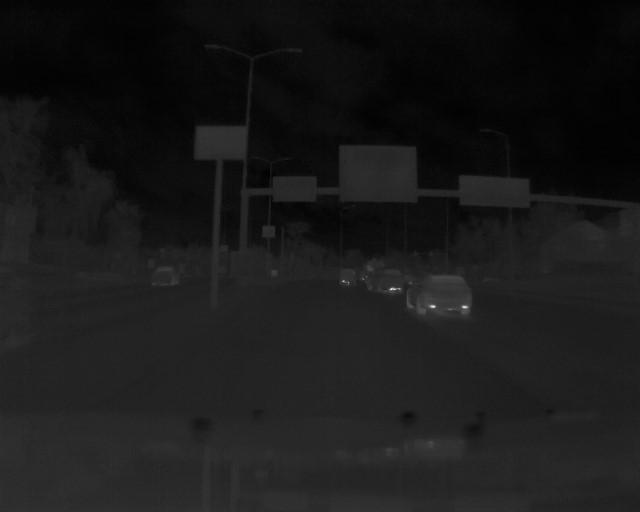car: (405, 271, 474, 318), (363, 264, 406, 296)
